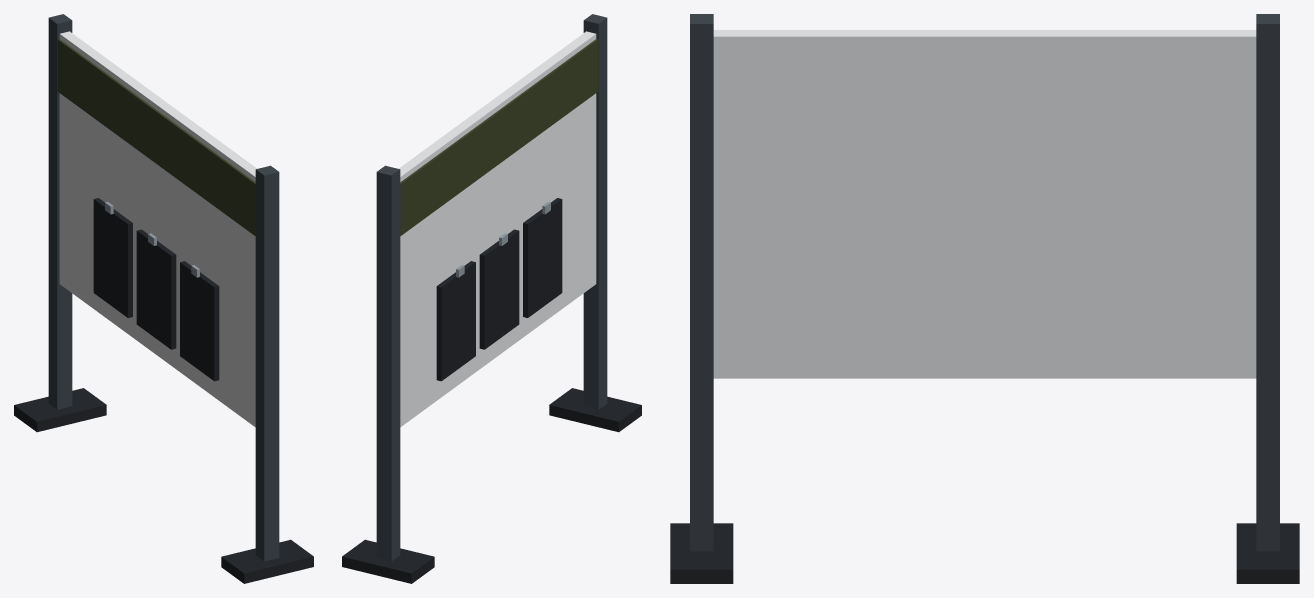
The model's file is egg_carrier_dayssign.fbx.
3 renders of one model, left to right at view 1: azimuth 30°, elevation 25°; view 2: azimuth 150°, elevation 25°; view 3: azimuth 270°, elevation 25°, orthographic. The views are drawn at different scales.
Visible parts, largest first — view 1: egg_carrier_dayssign; view 2: egg_carrier_dayssign; view 3: egg_carrier_dayssign.
Part boxes in pixels (box(x1,y1,x2,y2)): egg_carrier_dayssign: box(14, 14, 313, 583); egg_carrier_dayssign: box(342, 14, 641, 583); egg_carrier_dayssign: box(670, 14, 1299, 583).
Bounding box in the file's own units: 140 × 760 × 800.
